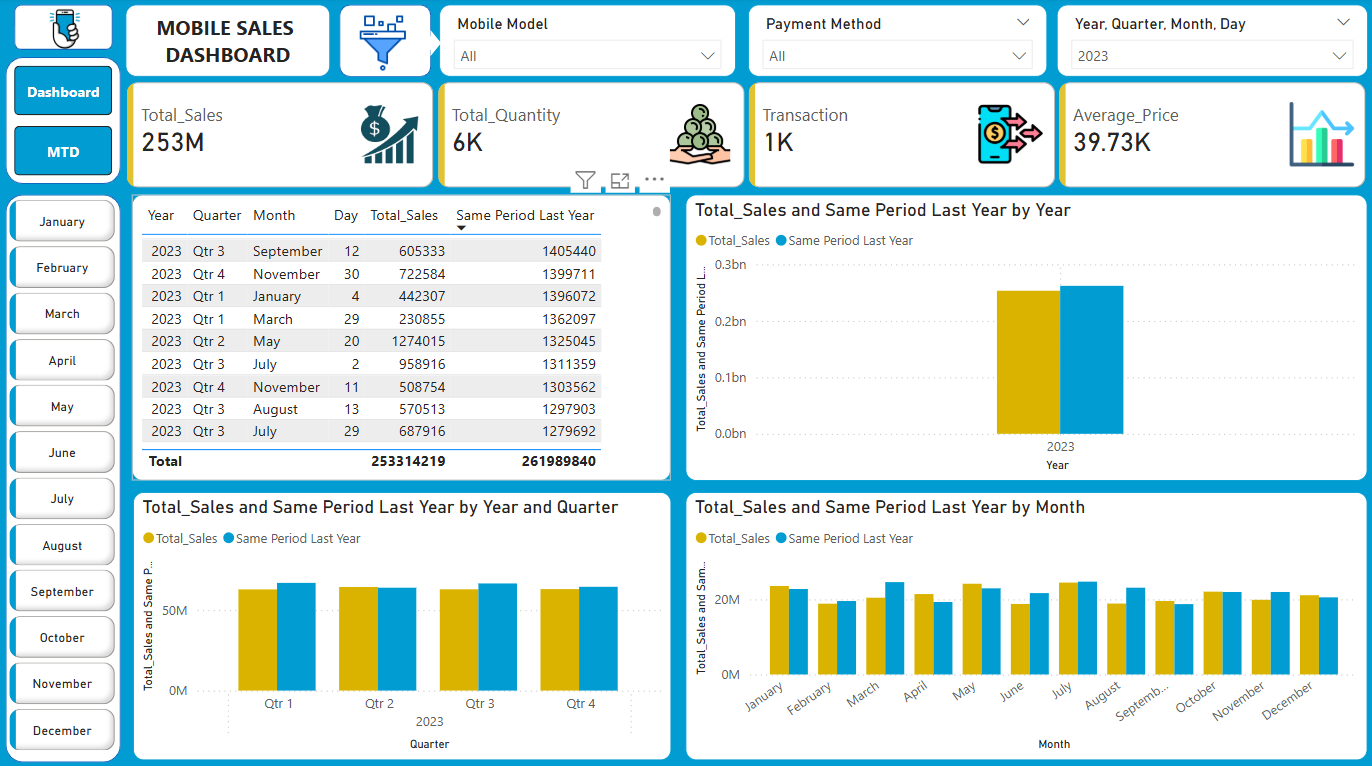

The page's visual inventory and layout, read from the dashboard file:
{"tool":"powerbi","page":{"name":"Same Period Last Year","canvas":[1280,720],"ordinal":2},"visuals":[{"type":"shape","box":[15.7,7.2,91.7,42.2],"z":0},{"type":"image","box":[6,1.2,112.2,56.7],"z":1000},{"type":"shape","box":[7.2,183.4,107.4,528.4],"z":2000},{"type":"shape","box":[7.2,55.5,107.4,118.2],"z":3000},{"type":"advancedSlicerVisual","fields":{"Values":["Custom_Calendar.Date.Variation.Date Hierarchy.Month"]},"box":[6,183.4,108.6,527.2],"z":4000},{"type":"cardVisual","fields":{"Data":["Sales Data.Total_Sales","Sales Data.Total_Quantity","Sales Data.Transaction","Sales Data.Average_Price"]},"box":[114.6,74.8,1165.4,108.6],"z":5000},{"type":"slicer","fields":{"Values":["Sales Data.Mobile Model"]},"box":[410.2,7.2,276.3,67.6],"z":6000},{"type":"slicer","fields":{"Values":["Sales Data.Payment Method"]},"box":[697.3,7.2,278.7,67.6],"z":7000},{"type":"slicer","fields":{"Values":["Custom_Calendar.Date.Variation.Date Hierarchy.Year","Custom_Calendar.Date.Variation.Date Hierarchy.Quarter","Custom_Calendar.Date.Variation.Date Hierarchy.Month","Custom_Calendar.Date.Variation.Date Hierarchy.Day"]},"box":[984.5,7.2,289.5,67.6],"z":8000},{"type":"shape","box":[317.3,7.2,85.7,67.6],"z":9000},{"type":"image","box":[326.9,12.1,62.7,62.7],"z":10000},{"type":"shape","box":[392.1,30.2,20.5,25.3],"z":11000},{"type":"shape","box":[118.2,7.2,190.6,67.6],"z":12000},{"type":"textbox","box":[118.2,7.2,190.6,67.6],"z":13000},{"type":"pageNavigator","box":[15.7,63.9,91.7,103.8],"z":14000},{"type":"tableEx","fields":{"Values":["Custom_Calendar.Date.Variation.Date Hierarchy.Year","Custom_Calendar.Date.Variation.Date Hierarchy.Quarter","Custom_Calendar.Date.Variation.Date Hierarchy.Month","Custom_Calendar.Date.Variation.Date Hierarchy.Day","Sales Data.Total_Sales","Sales Data.Same Period Last Year"]},"box":[124.3,183.4,501.9,266.6],"z":15000},{"type":"clusteredColumnChart","fields":{"Category":["Custom_Calendar.Date.Variation.Date Hierarchy.Year","Custom_Calendar.Date.Variation.Date Hierarchy.Quarter"],"Y":["Sales Data.Total_Sales","Sales Data.Same Period Last Year"]},"box":[639.4,183.4,634.6,266.6],"z":16000},{"type":"clusteredColumnChart","fields":{"Category":["Custom_Calendar.Date.Variation.Date Hierarchy.Year","Custom_Calendar.Date.Variation.Date Hierarchy.Quarter"],"Y":["Sales Data.Total_Sales","Sales Data.Same Period Last Year"]},"box":[125.5,460.9,500.7,249.7],"z":17000},{"type":"clusteredColumnChart","fields":{"Y":["Sales Data.Total_Sales","Sales Data.Same Period Last Year"],"Category":["Custom_Calendar.Date.Variation.Date Hierarchy.Month","Custom_Calendar.Date.Variation.Date Hierarchy.Day"]},"box":[639.4,460.9,634.6,249.7],"z":18000}]}

Visuals, with their boxes in screenshot pixels (x1, y1, x2, y2), scaled from the page's 1280x720 canvas onto the 1372x766 screenshot:
shape: <region>17, 8, 115, 53</region>
image: <region>6, 1, 127, 62</region>
shape: <region>8, 195, 123, 757</region>
shape: <region>8, 59, 123, 185</region>
advancedSlicerVisual - Custom_Calendar.Date.Variation.Date Hierarchy.Month: <region>6, 195, 123, 756</region>
cardVisual - Sales Data.Total_Sales x Sales Data.Total_Quantity: <region>123, 80, 1371, 195</region>
slicer - Sales Data.Mobile Model: <region>440, 8, 736, 80</region>
slicer - Sales Data.Payment Method: <region>747, 8, 1046, 80</region>
slicer - Custom_Calendar.Date.Variation.Date Hierarchy.Year x Custom_Calendar.Date.Variation.Date Hierarchy.Quarter: <region>1055, 8, 1366, 80</region>
shape: <region>340, 8, 432, 80</region>
image: <region>350, 13, 418, 80</region>
shape: <region>420, 32, 442, 59</region>
shape: <region>127, 8, 331, 80</region>
textbox: <region>127, 8, 331, 80</region>
pageNavigator: <region>17, 68, 115, 178</region>
tableEx - Custom_Calendar.Date.Variation.Date Hierarchy.Year x Custom_Calendar.Date.Variation.Date Hierarchy.Quarter: <region>133, 195, 671, 479</region>
clusteredColumnChart - Custom_Calendar.Date.Variation.Date Hierarchy.Year x Custom_Calendar.Date.Variation.Date Hierarchy.Quarter: <region>685, 195, 1366, 479</region>
clusteredColumnChart - Custom_Calendar.Date.Variation.Date Hierarchy.Year x Custom_Calendar.Date.Variation.Date Hierarchy.Quarter: <region>135, 490, 671, 756</region>
clusteredColumnChart - Sales Data.Total_Sales x Sales Data.Same Period Last Year: <region>685, 490, 1366, 756</region>
